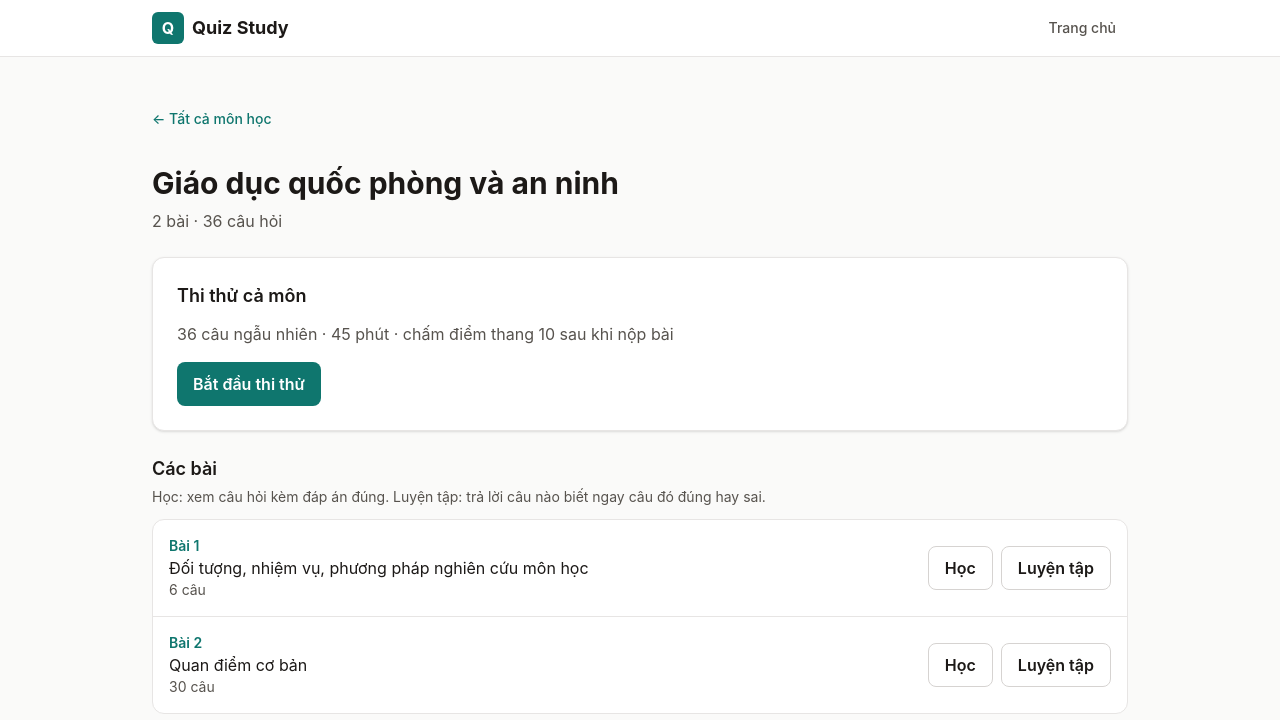
Scenario: SubjectPage › starts a practice attempt and opens it
Click the button with aria-label "Luyện tập Quan điểm cơ bản": (1056, 665) x1=1001 y1=643 x2=1111 y2=687
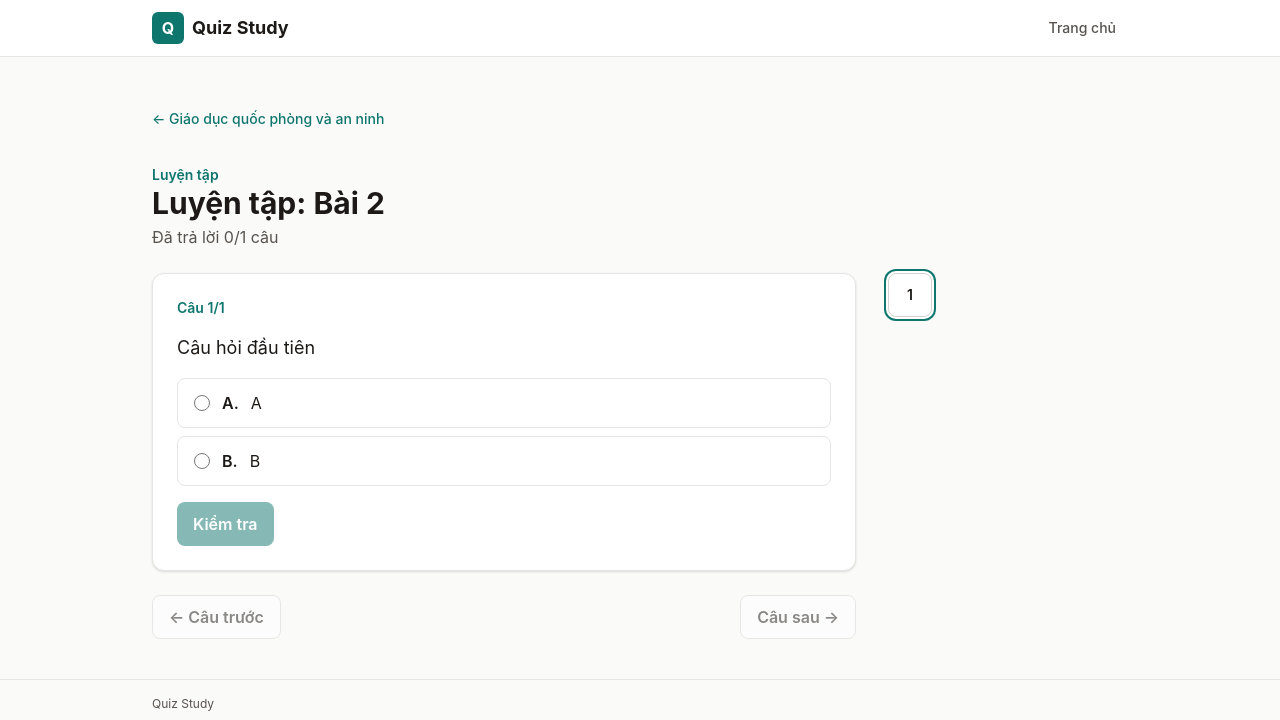
Expected: the heading "Luyện tập: Bài 2" is shown, x1=152 y1=185 x2=385 y2=221
Expected: the text "Câu hỏi đầu tiên" is shown, x1=177 y1=337 x2=315 y2=358
